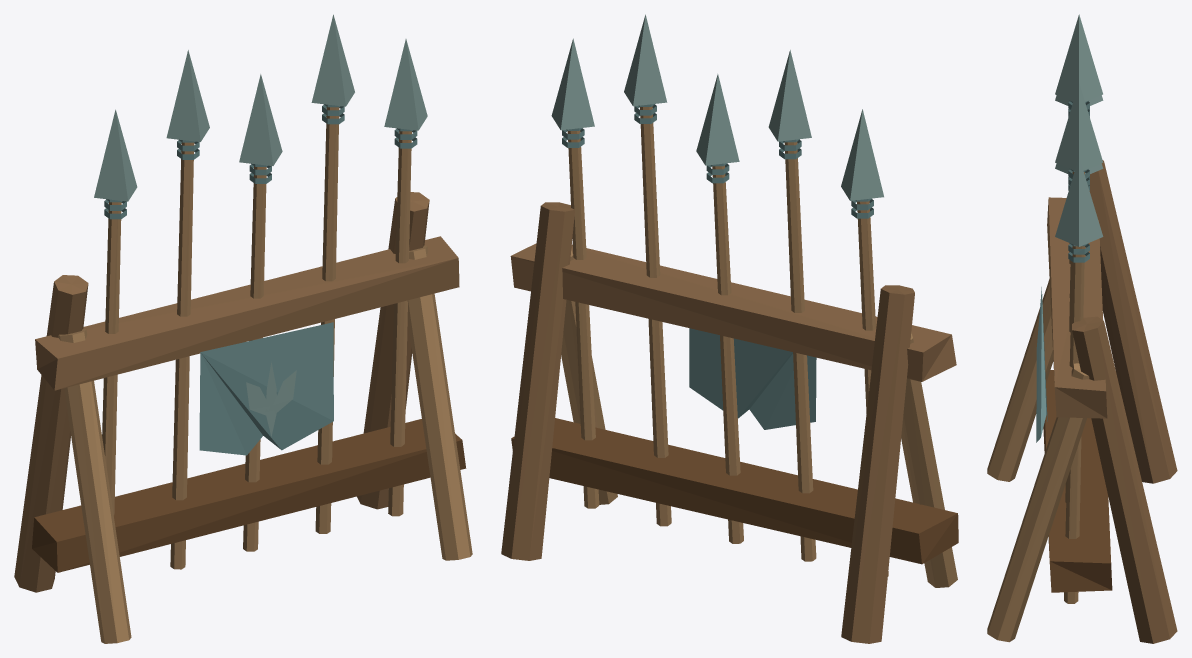
Rendered from spear_rack.glb.
3 renders of one model, left to right at view 1: azimuth 30°, elevation 25°; view 2: azimuth 150°, elevation 25°; view 3: azimuth 270°, elevation 25°, orthographic. The views are drawn at different scales.
Parts seen in each view (by area): view 1: WoodlandMesh; view 2: WoodlandMesh; view 3: WoodlandMesh.
Boxes of the visible parts, <box> form: WoodlandMesh: <box>14,14,472,643</box>; WoodlandMesh: <box>501,14,958,643</box>; WoodlandMesh: <box>987,14,1177,643</box>.
Bounding box in the file's own units: 2.3 × 2.83 × 0.9427.
